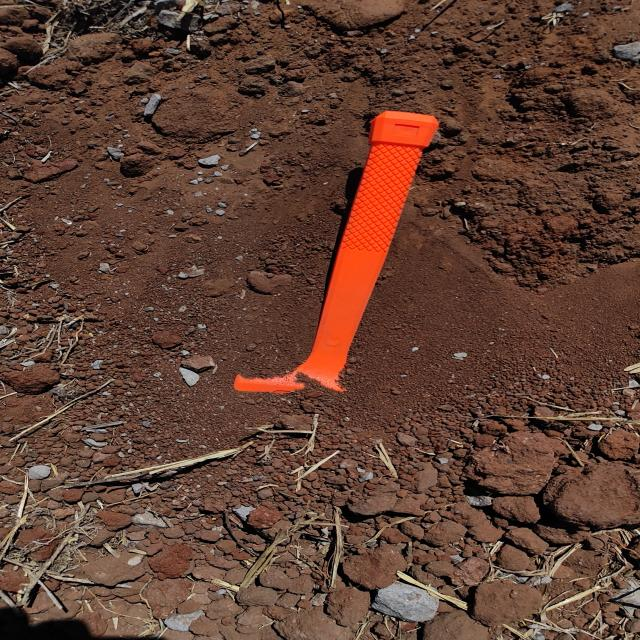Orange_hammer: (232, 110, 439, 394)
rock: (461, 424, 640, 536), (462, 575, 548, 627), (336, 544, 414, 590), (17, 54, 90, 88), (148, 539, 200, 584), (0, 366, 73, 396), (114, 150, 165, 182)
